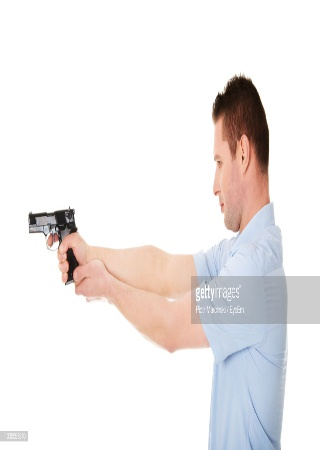handgun: (27, 203, 79, 285)
